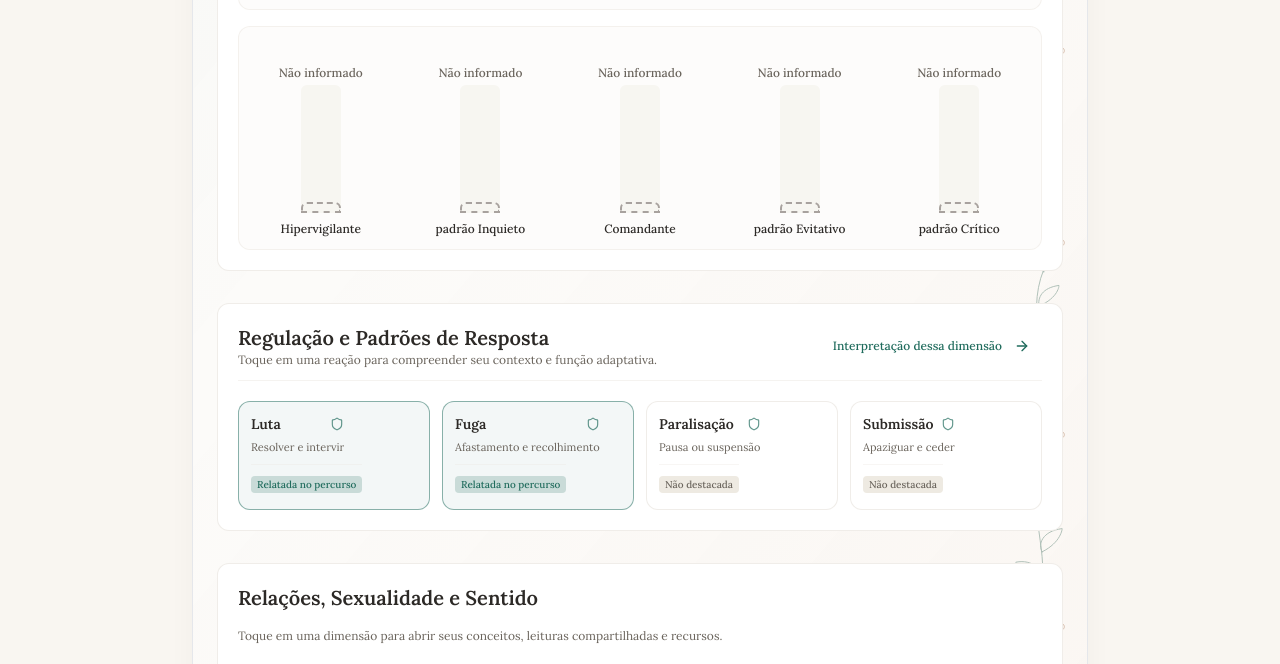
Mapa inicial automático › abre leitura interativa sem abas, exclui outras pessoas e não expõe leitura profissional em rascunho
(page scrolled)
Click the button with aria-label "Interpretação dessa dimensão: Regulação": (931, 346) [821,324,1042,368]
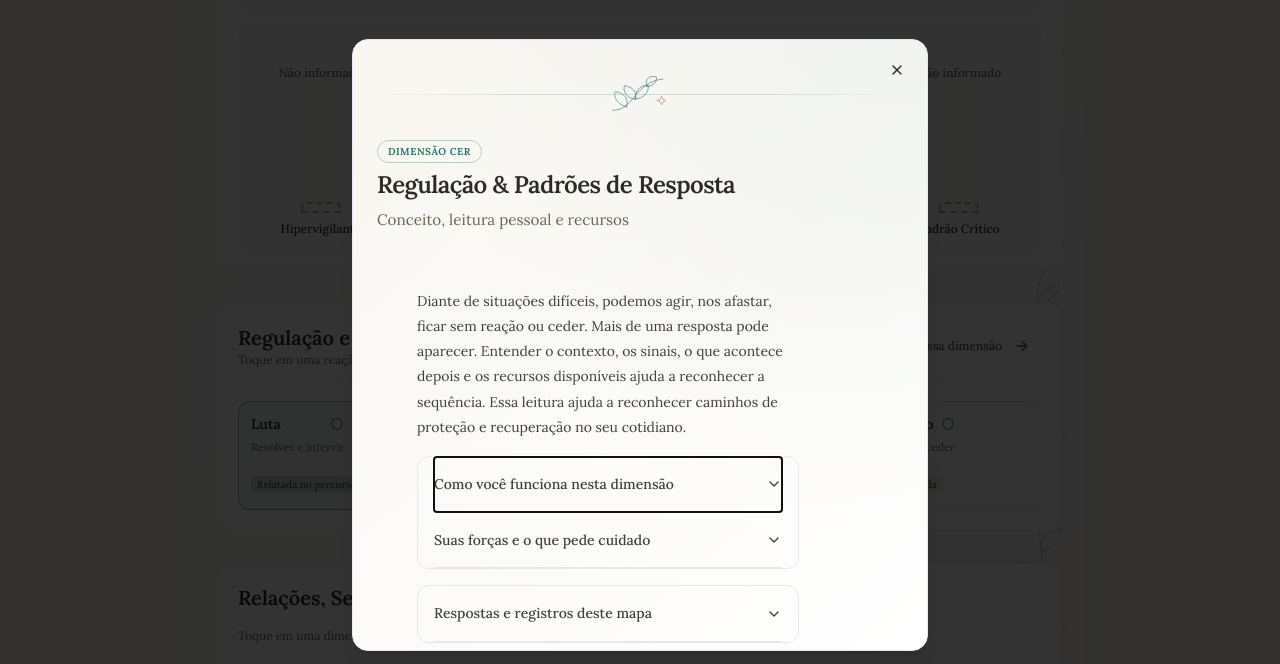
Click the button "Respostas e registros deste mapa": (608, 614) [434,586,782,641]
(page scrolled)
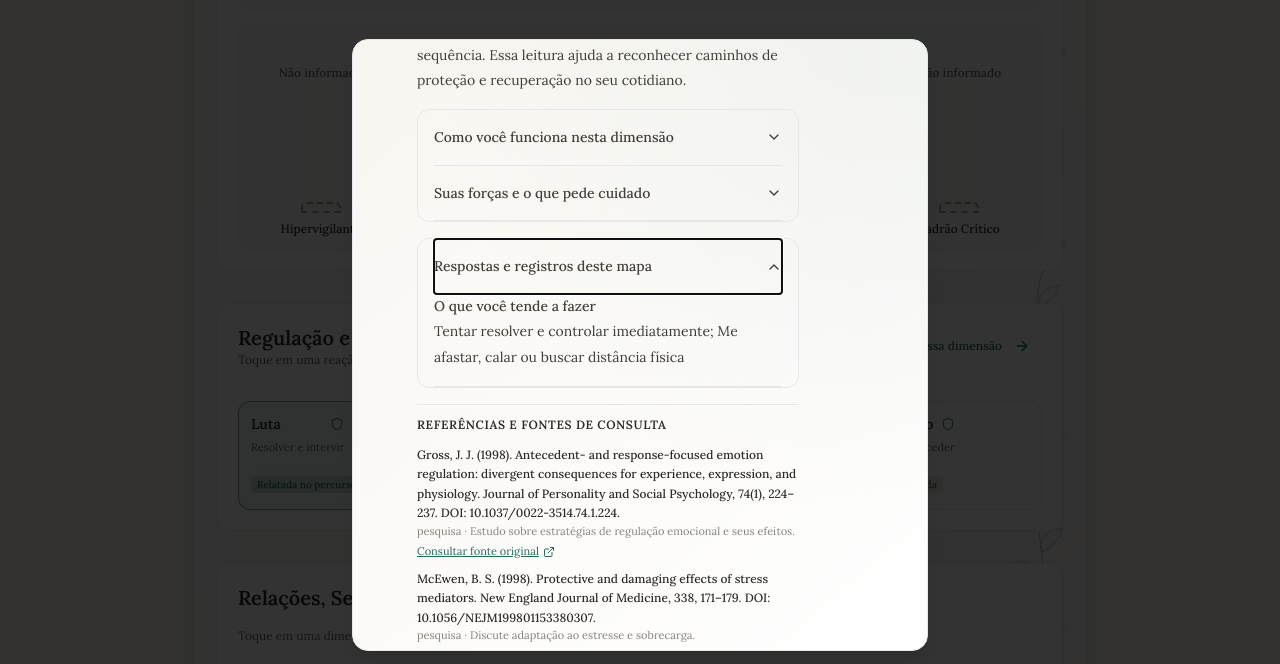
Now the text "Me afastar, calar ou buscar distância física" is shown, box [434,322,741,366]
